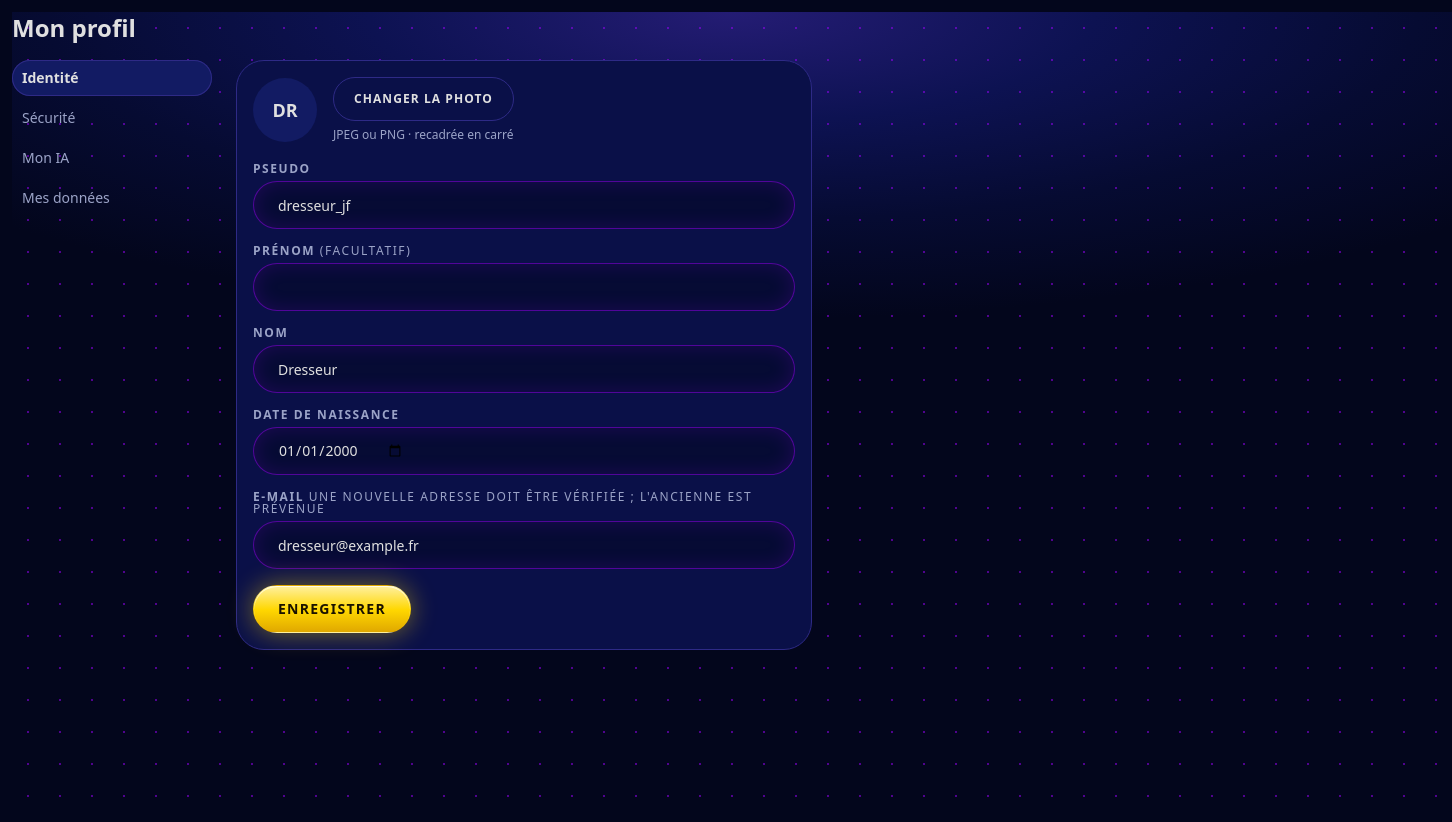
Scenario: ProfilPage › passe à l'onglet Mes données et demande le mot de passe avant suppression
Check: the field showing "dresseur_jf" is shown, box [253,181,795,229]
Click the button "Mes données": (112, 198) [12,180,212,216]
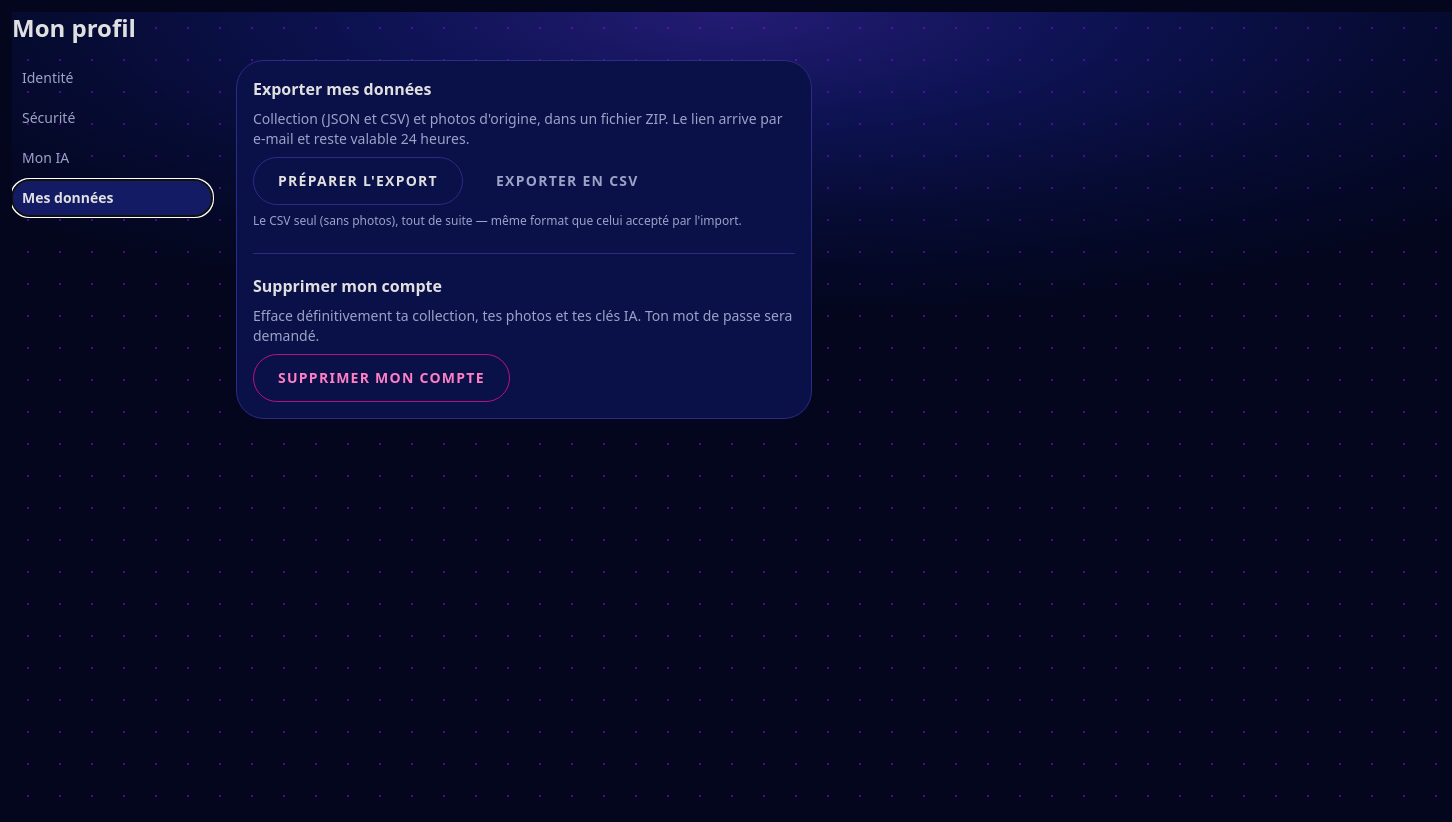
Click the button "Supprimer mon compte": (381, 378) [253,354,510,402]
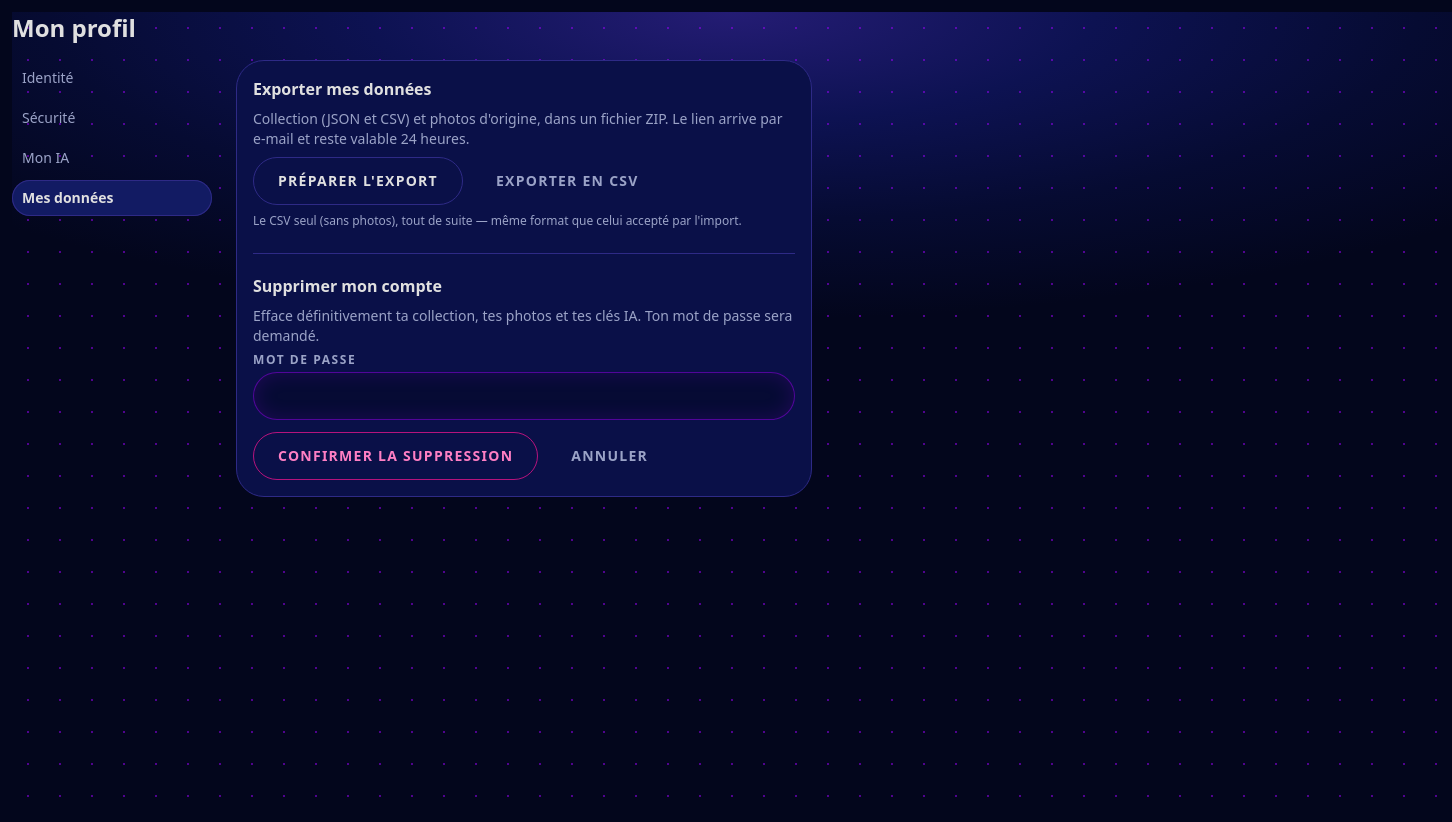
Check: the password field labelled "Mot de passe" is shown, box [253,372,795,420]
